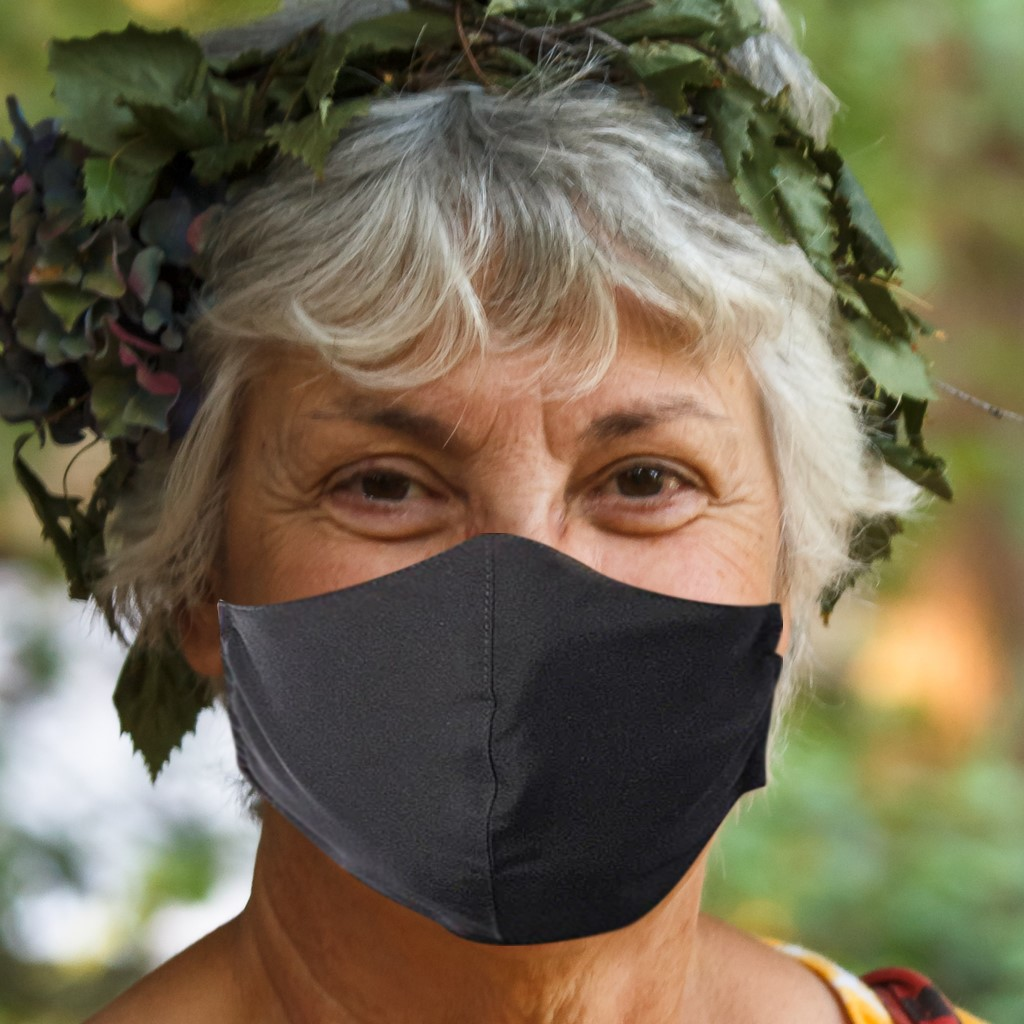con_mascara: (189, 198, 780, 937)
